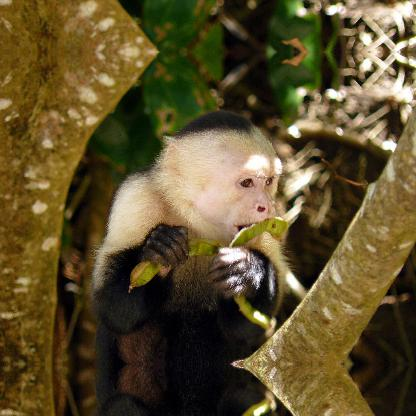Monkey: (80, 112, 302, 348)
